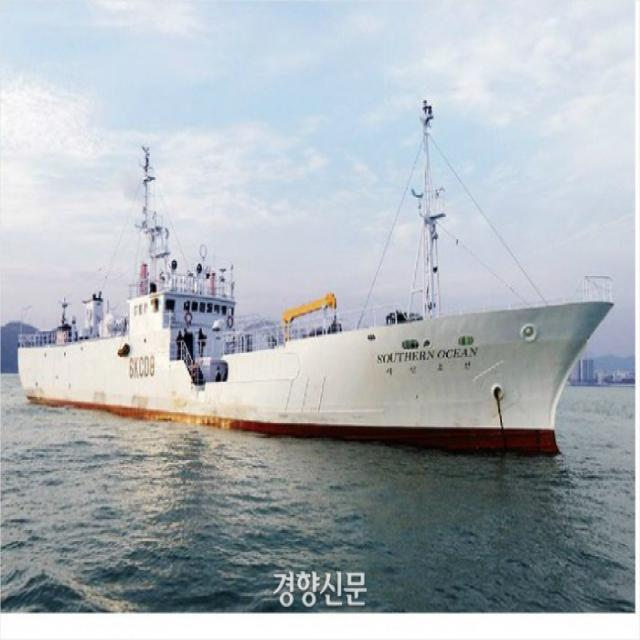Ship: (18, 86, 620, 465)
